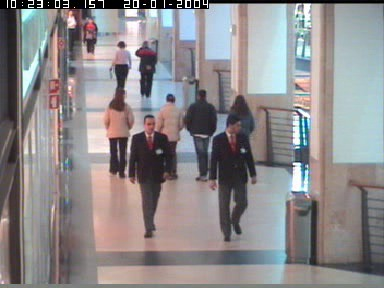person: (209, 116, 256, 242), (127, 114, 173, 236), (187, 88, 218, 181), (225, 94, 255, 184), (104, 90, 134, 178), (154, 94, 183, 178), (108, 41, 132, 93), (135, 41, 157, 97), (81, 17, 99, 54), (67, 9, 77, 54)
